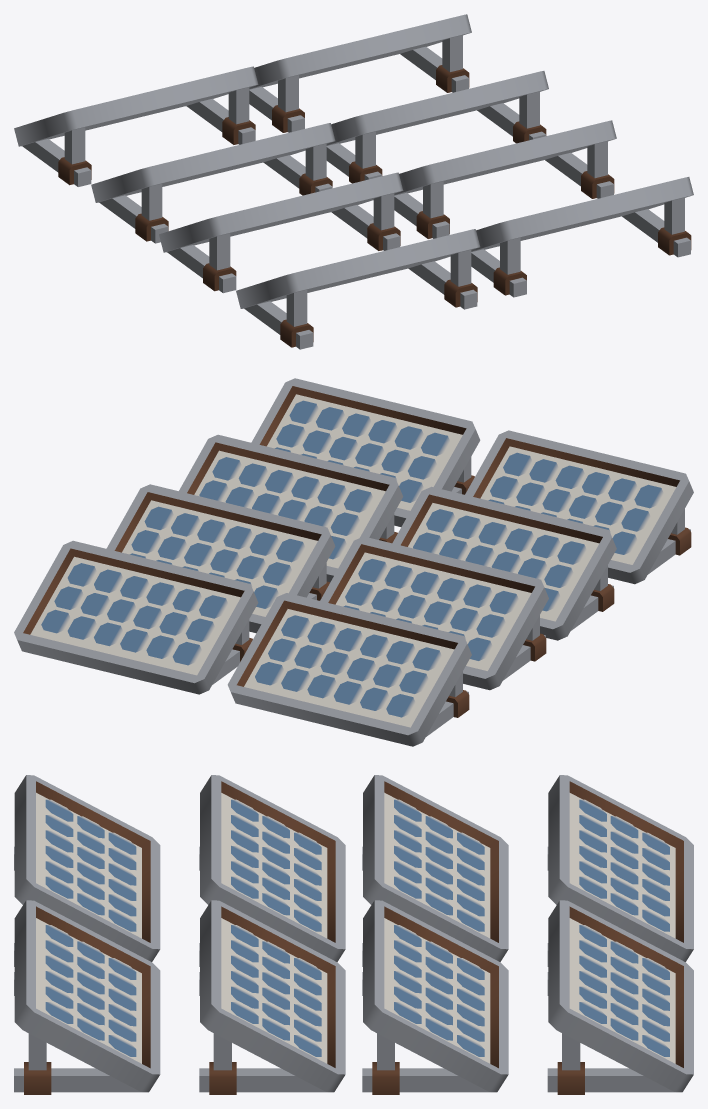
The model's file is solar.glb.
3 views of the same model, one above another, from view 1: azimuth 30°, elevation 25°; view 2: azimuth 150°, elevation 25°; view 3: azimuth 270°, elevation 25° (orthographic). The views are drawn at different scales.
Visible parts, largest first — view 1: solar; view 2: solar; view 3: solar.
Part boxes in pixels (x1,y1,x2,y2): solar: (14, 14, 693, 349); solar: (14, 378, 693, 746); solar: (14, 775, 693, 1094).
Size of the model in its own units: 0.7422 by 0.1287 by 0.9.
